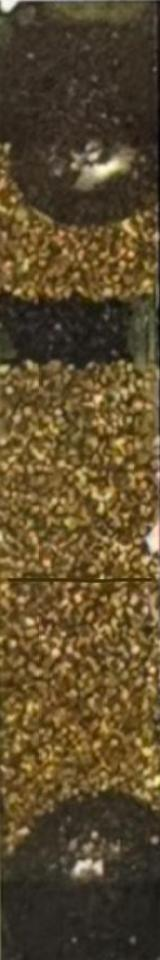blackline: (7, 572, 154, 585)
